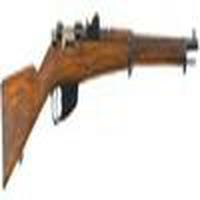gun: (3, 25, 197, 146)
